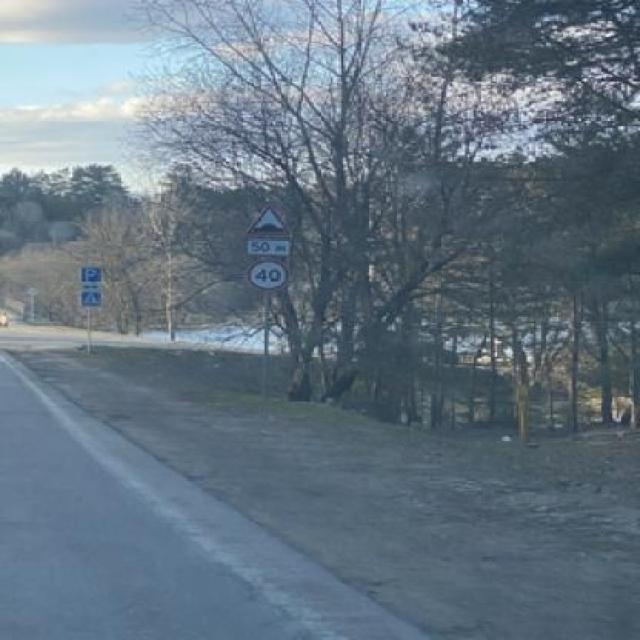forb_speed_over_40: (248, 258, 286, 292)
